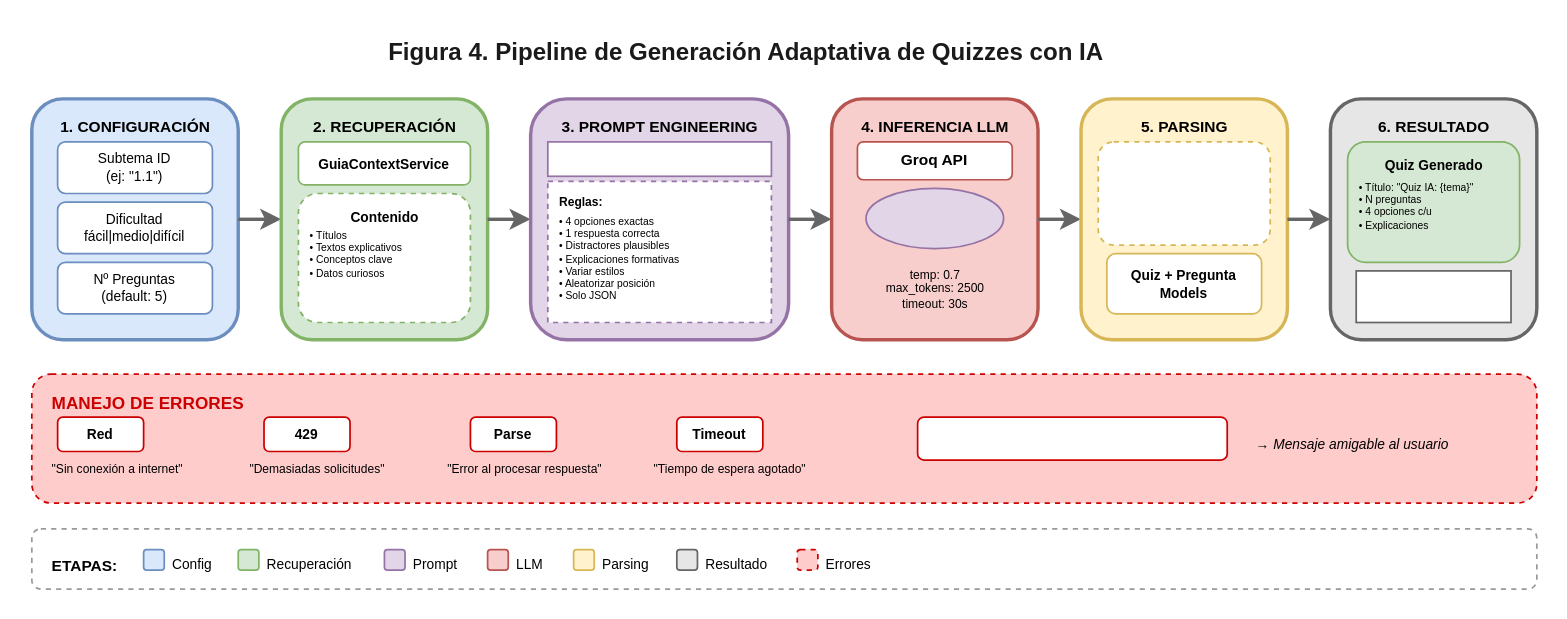
The diagram is 1567 pixels wide and 619 high, and some of its shapes have lost their labels. Here are the shapes that lost their labels. From the top down, the centre of each, then its label:
point (658, 158): System: Experto educación
point (1183, 192): 1. Limpiar markdown 2. Parse JSON 3. Validar esquema 4. Verificar índices
point (934, 218): LLaMA 3.3 70B
point (1432, 295): QuizGenerationResult .success(Quiz)
point (1071, 437): QuizGenerationResult.failure(String error)
